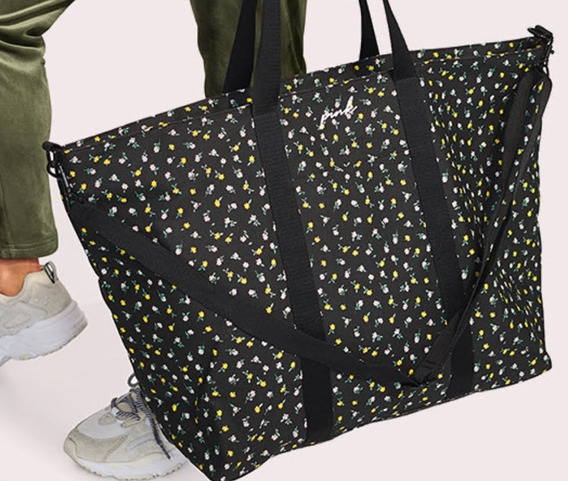cartera: (41, 3, 555, 481)
